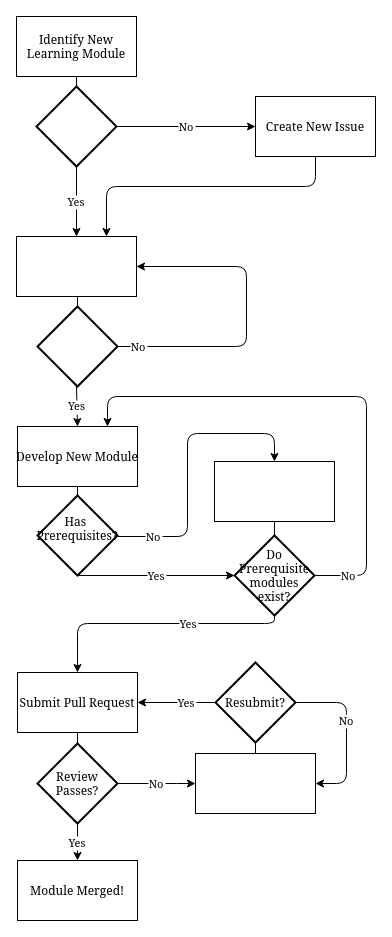
The diagram is 392 pixels wide and 937 high, and some of its shapes have lost their labels. The shapes that lost their labels are listed below. From the top down, each one's centre as x and y in pixels, then its label:
(76,126): Existing Issue?
(76,266): Discuss and Assign Issue
(77,346): Consensus?
(274,491): Define Prerequisite Modules
(255,783): Module Rejected
